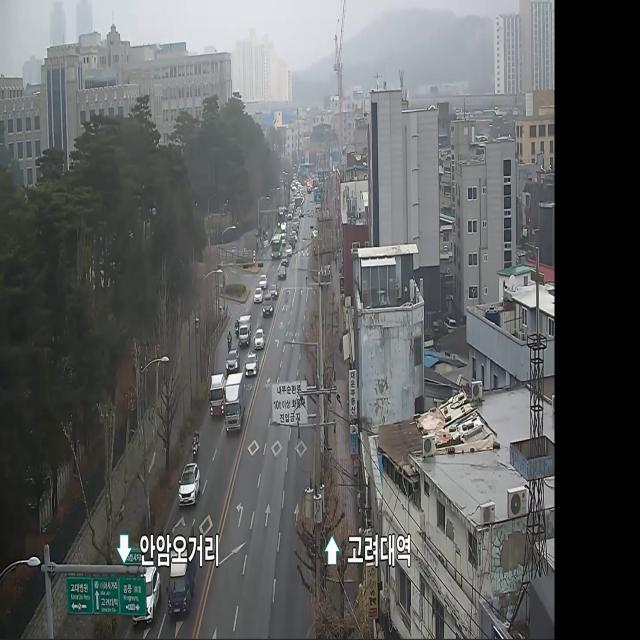bus: (191, 424, 201, 460), (226, 324, 234, 354)
motorcycle: (177, 462, 200, 508), (244, 350, 258, 379), (226, 348, 240, 375), (253, 325, 266, 352), (262, 292, 275, 318), (252, 286, 262, 305), (258, 273, 267, 289)
truck: (224, 372, 246, 436), (237, 314, 253, 349)
